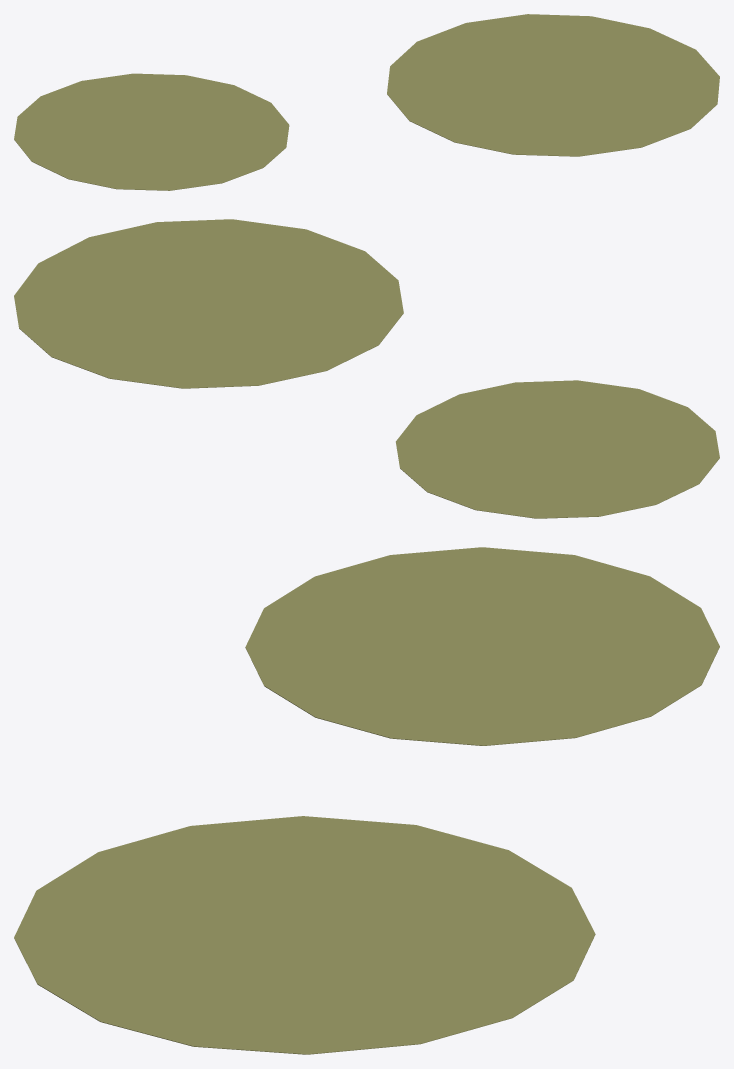
The model's file is park_road.fbx.
The picture shows the model from 3 angles, top to bottom: view 1: azimuth 30°, elevation 25°; view 2: azimuth 150°, elevation 25°; view 3: azimuth 270°, elevation 25°; orthographic projection. The views are drawn at different scales.
Parts seen in each view (by area): view 1: Object069; view 2: Object069; view 3: Object069.
Boxes of the visible parts, x1,y1,x2,y2 form: Object069: [14, 14, 719, 190]; Object069: [14, 219, 719, 518]; Object069: [14, 547, 719, 1054].
Size of what is drawn, in the model's own units: 38721 by 20.02 by 22782.
